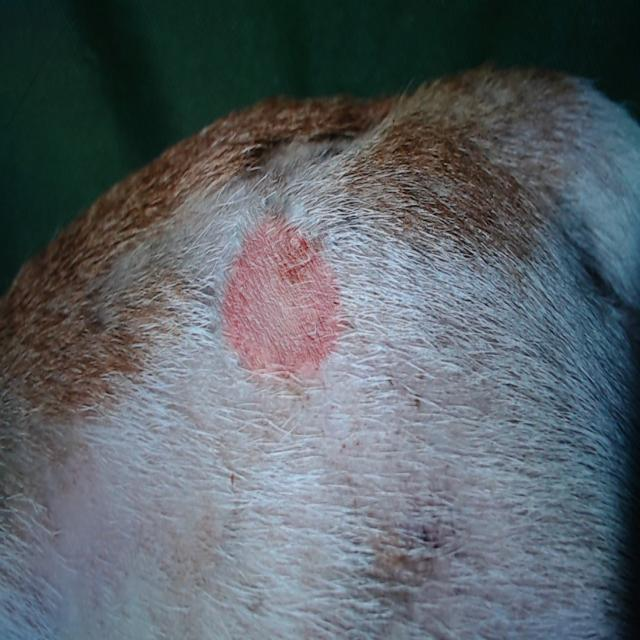ringworm: (221, 218, 354, 371)
